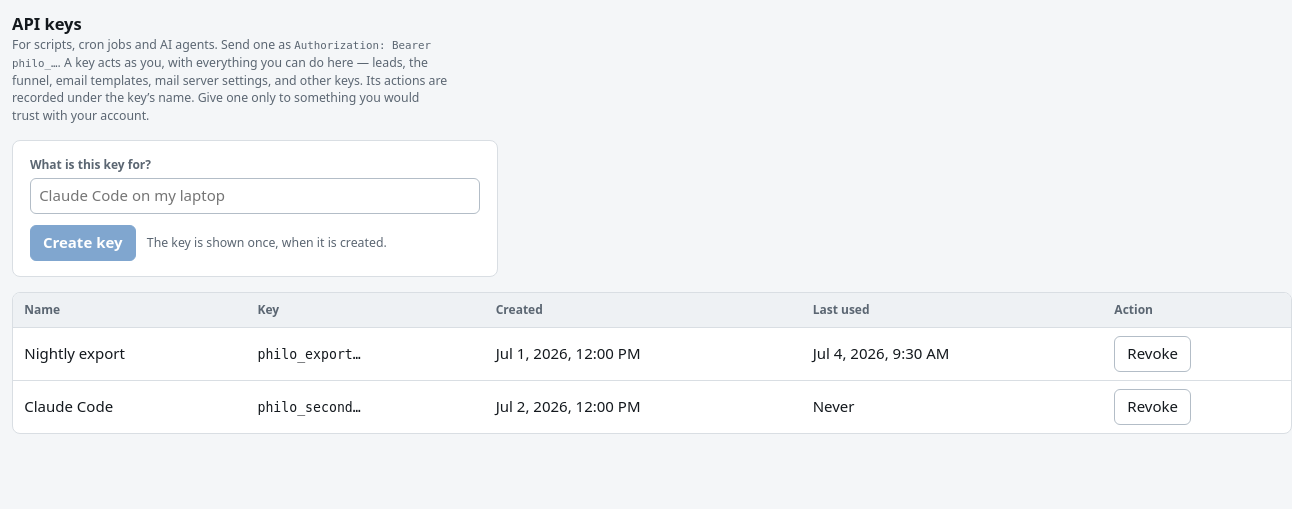
Test case: ApiKeys › reports a key somebody else already revoked
The image size is (1292, 509).
Click the button with aria-label "Revoke Nightly export". click: {"x": 1153, "y": 354}
box: x1=1114 y1=336 x2=1191 y2=372
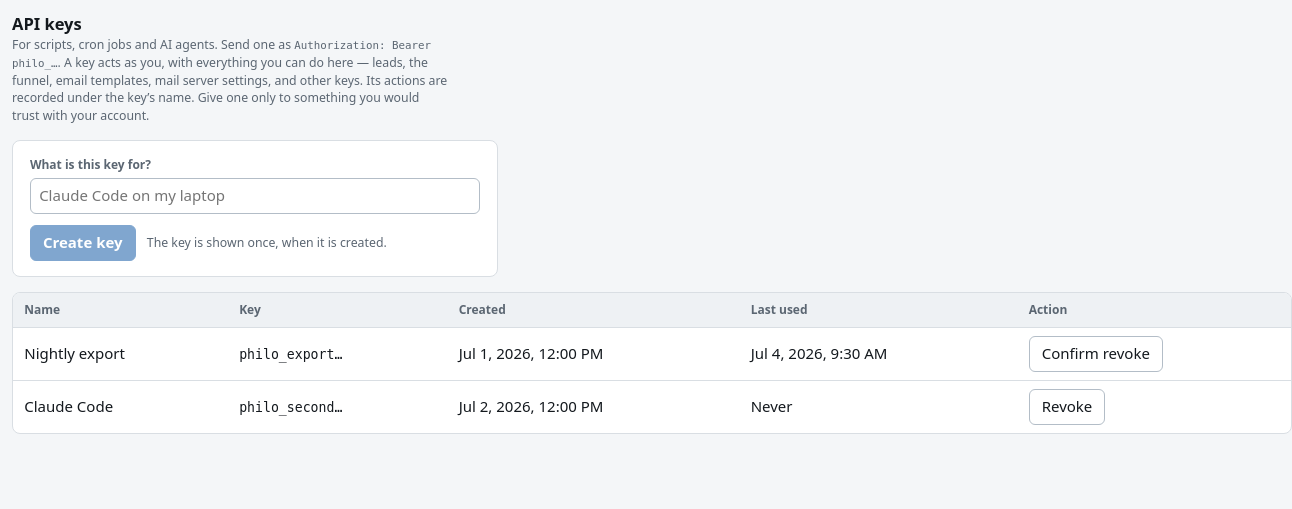
Click the button with aria-label "Confirm revoking Nightly export". click: {"x": 1096, "y": 354}
box: x1=1029 y1=336 x2=1163 y2=372
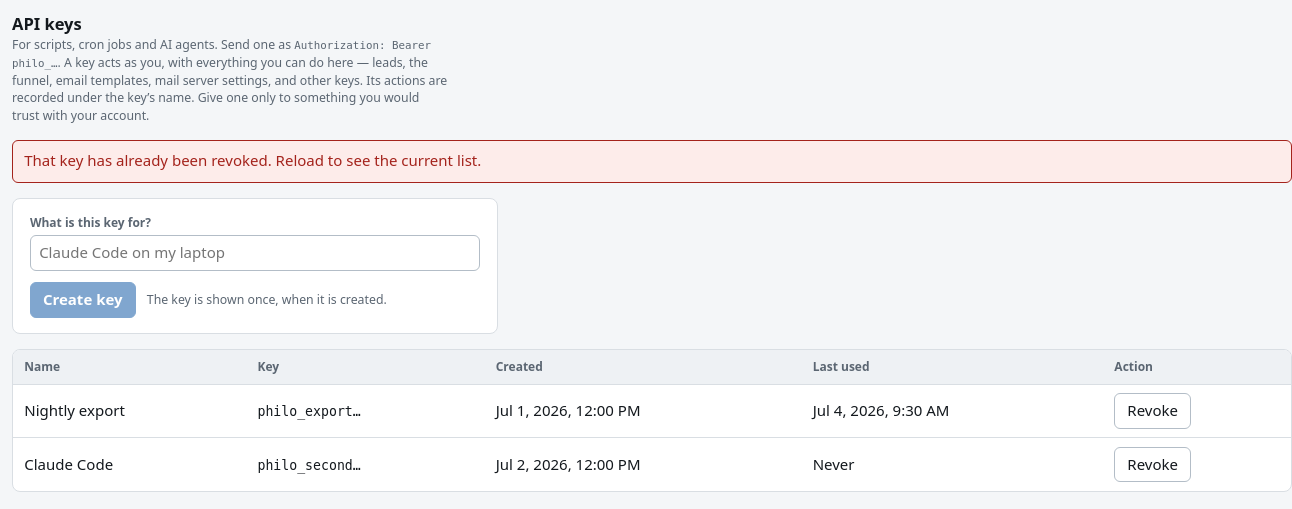
Result: the text "That key has already been revoked. Reload to see the current list." is shown at x1=12 y1=140 x2=1291 y2=183
